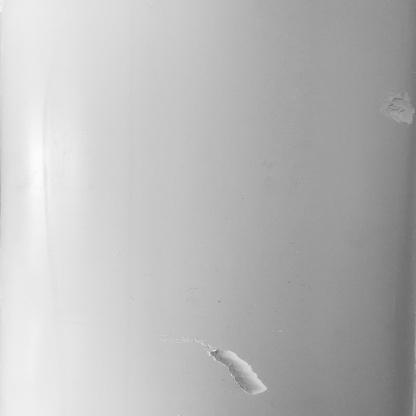sunshang: (201, 338, 284, 405), (379, 90, 416, 127)
